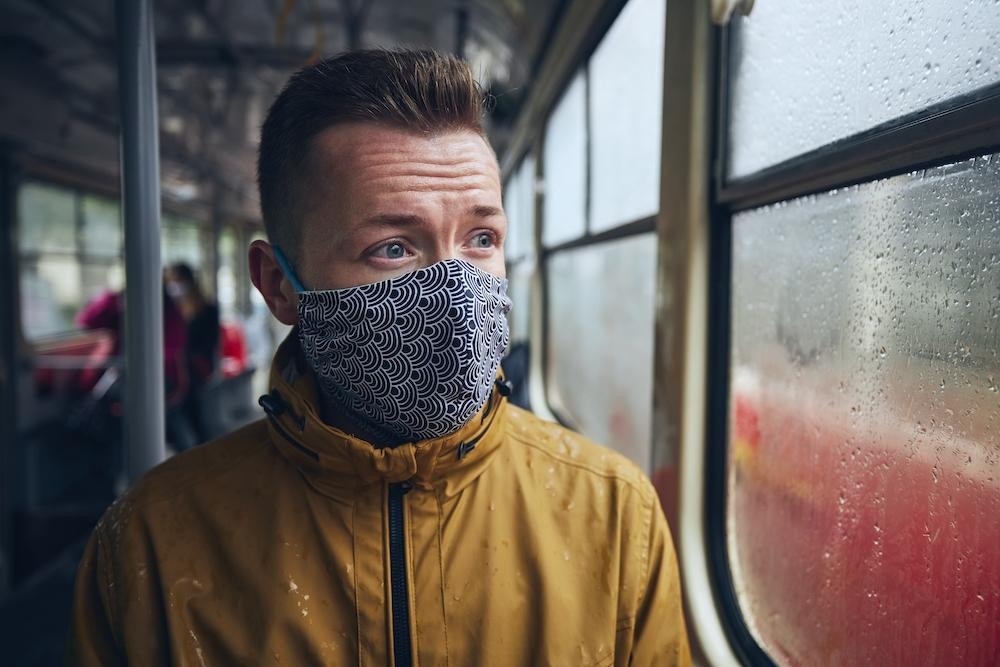mask: (285, 253, 525, 445)
